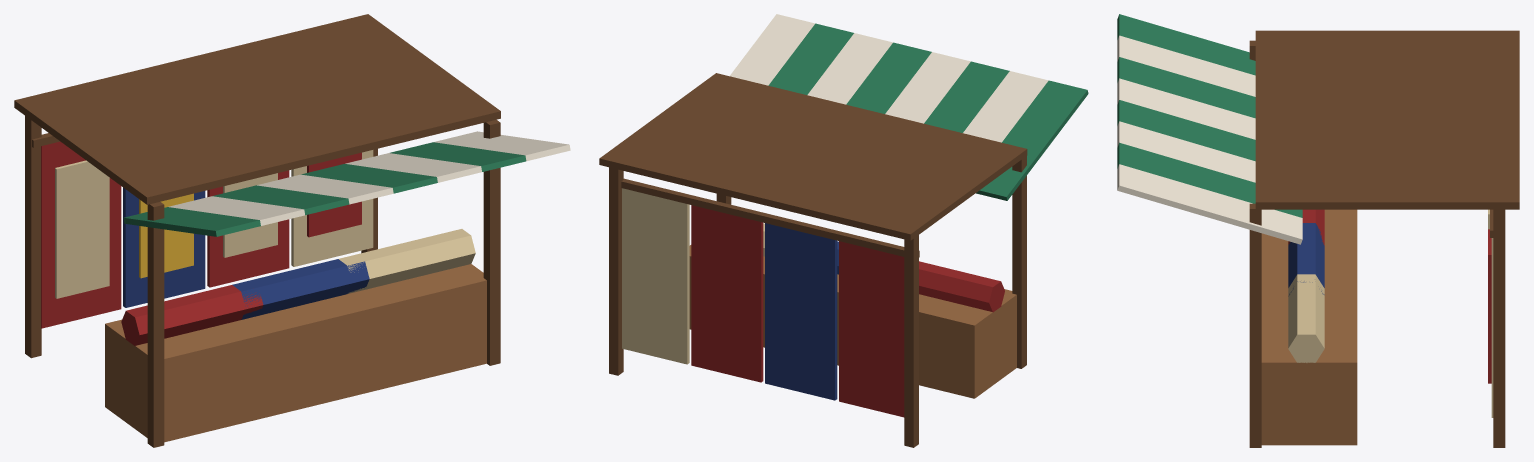
Rendered from basar_mattor.glb.
3 views of the same model, side by side, from view 1: azimuth 30°, elevation 25°; view 2: azimuth 150°, elevation 25°; view 3: azimuth 270°, elevation 25° (orthographic). The views are drawn at different scales.
Parts seen in each view (by area): view 1: basar_mattor; view 2: basar_mattor; view 3: basar_mattor.
Part boxes in pixels (x1,y1,x2,y2): basar_mattor: (14,14,570,447); basar_mattor: (599,14,1088,447); basar_mattor: (1117,14,1519,447).
Size of the model in its own units: 4 by 2.87 by 3.96.
